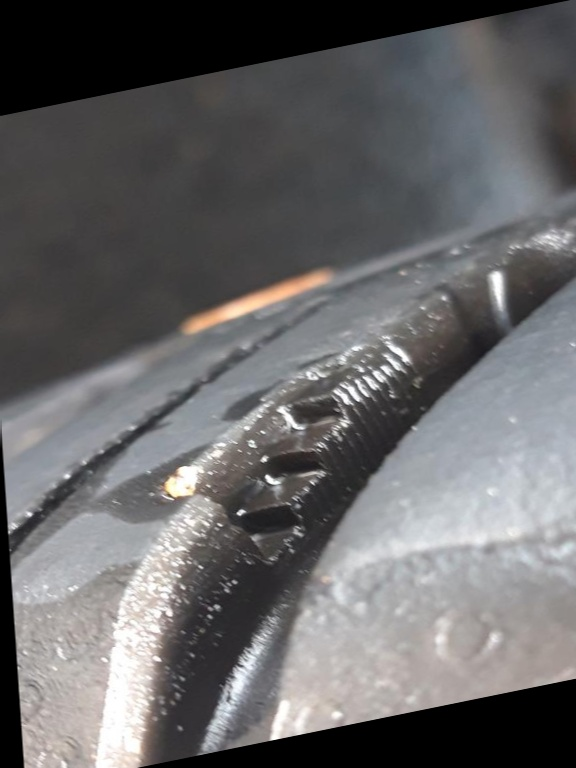temoin:80: (142, 315, 462, 610)
